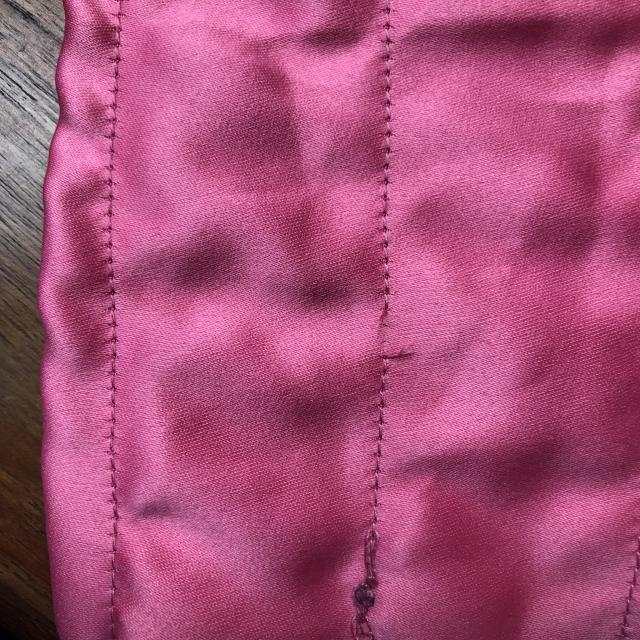broken: (362, 285, 423, 384)
